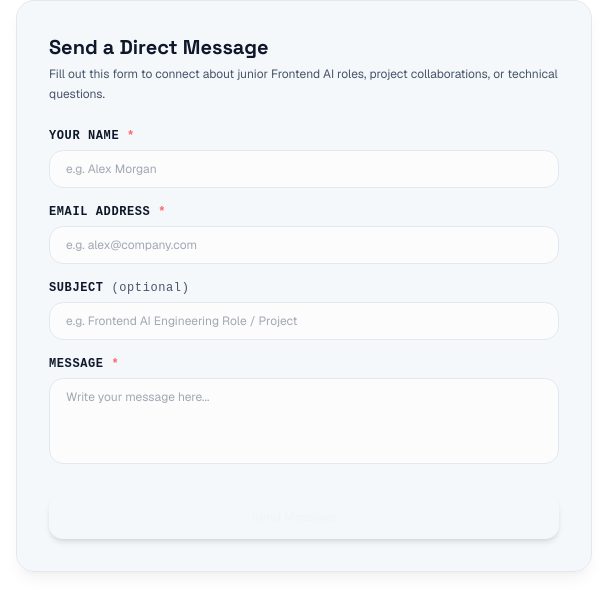
ContactForm Dynamic Component › validates minimum message length (< 10 chars)
Type "Alex Morgan" into the field labelled "Your Name *".
click(304, 169); type("Alex Morgan")  # box top-left (49, 150), bottom-right (559, 188)
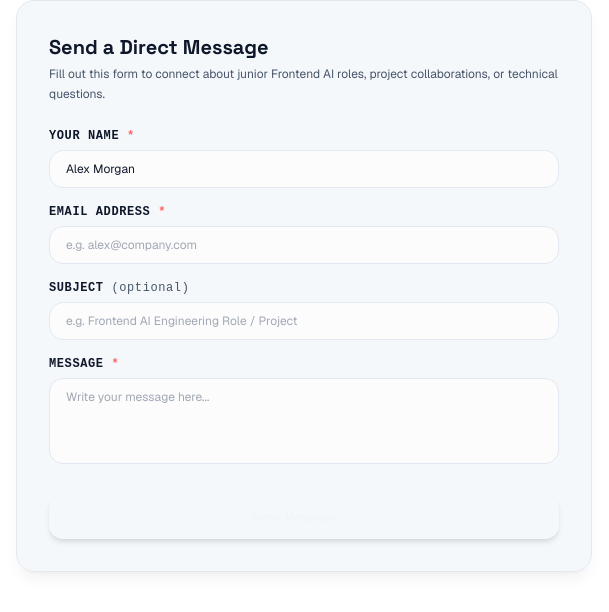
Type "alex@startup.ai" into the field labelled "Email Address *".
click(304, 245); type("alex@startup.ai")  # box top-left (49, 226), bottom-right (559, 264)
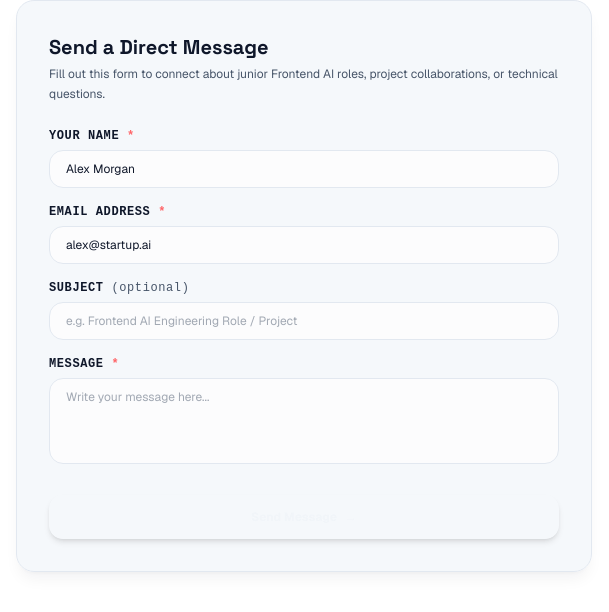
Type "Too short" into the text box labelled "Message *".
click(304, 421); type("Too short")  # box top-left (49, 378), bottom-right (559, 464)
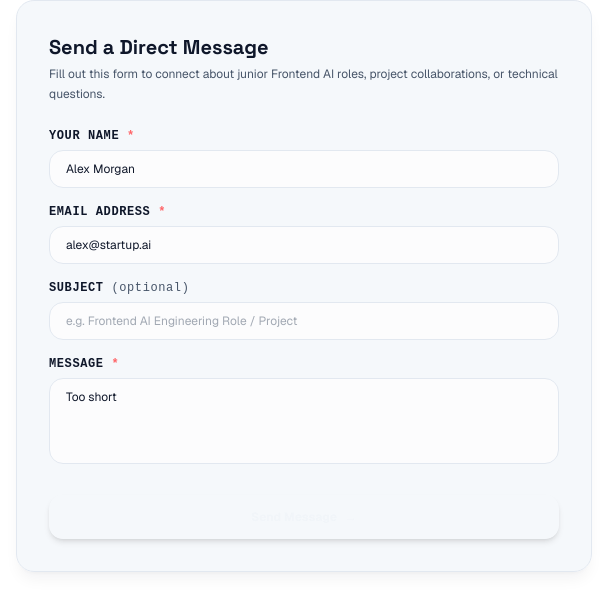
Click the button "Send Message →".
click(304, 517)  # box top-left (49, 495), bottom-right (559, 539)
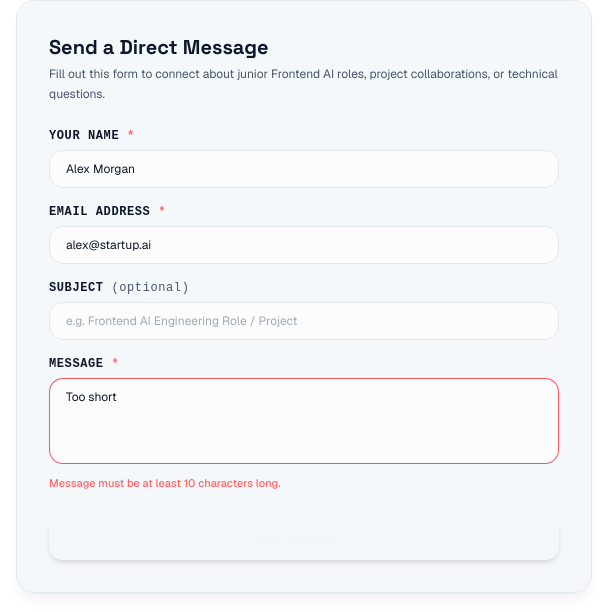
Now the text "Message must be at least 10 characters long." is shown, box top-left (49, 476), bottom-right (281, 490)
